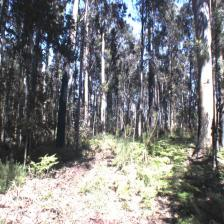trunktrack_idkeyframe: (55, 72, 70, 146)
